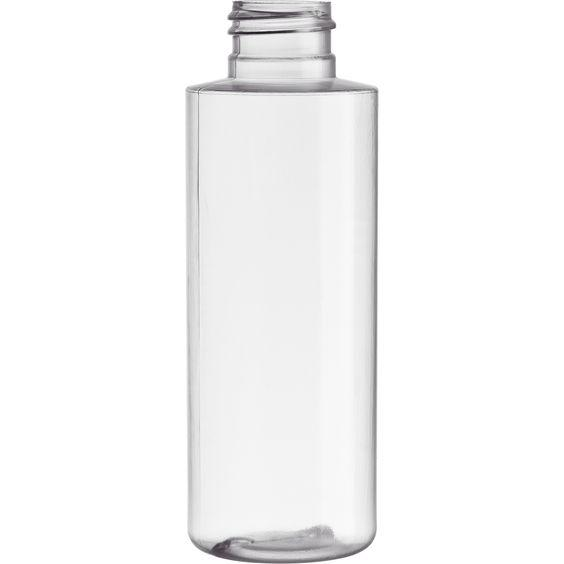PVC: (186, 0, 375, 564)
